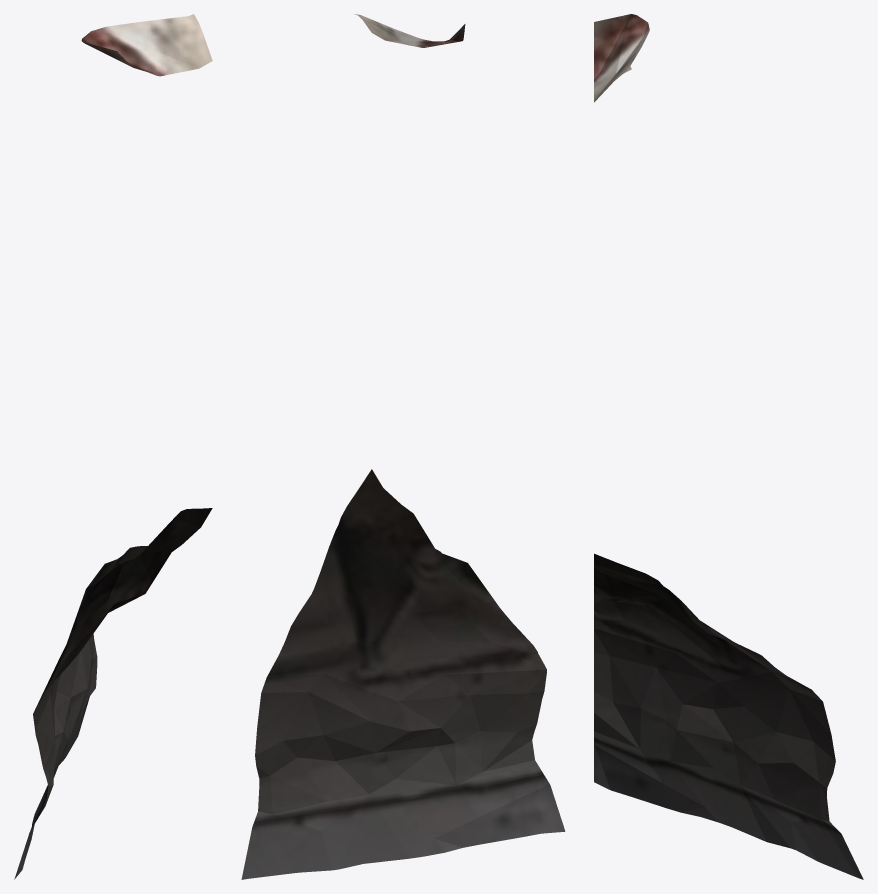
3 renders of one model, left to right at view 1: azimuth 30°, elevation 25°; view 2: azimuth 150°, elevation 25°; view 3: azimuth 270°, elevation 25°, orthographic. The views are drawn at different scales.
Size of the model in its own units: 0.2165 by 0.8374 by 0.2525.
1 material, 1 textured.
